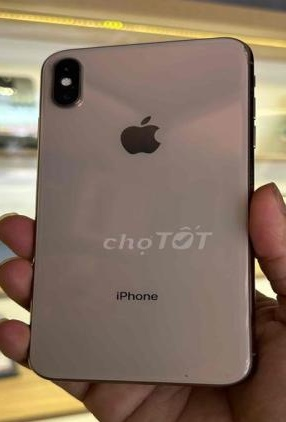scratch: (171, 368, 199, 385)
